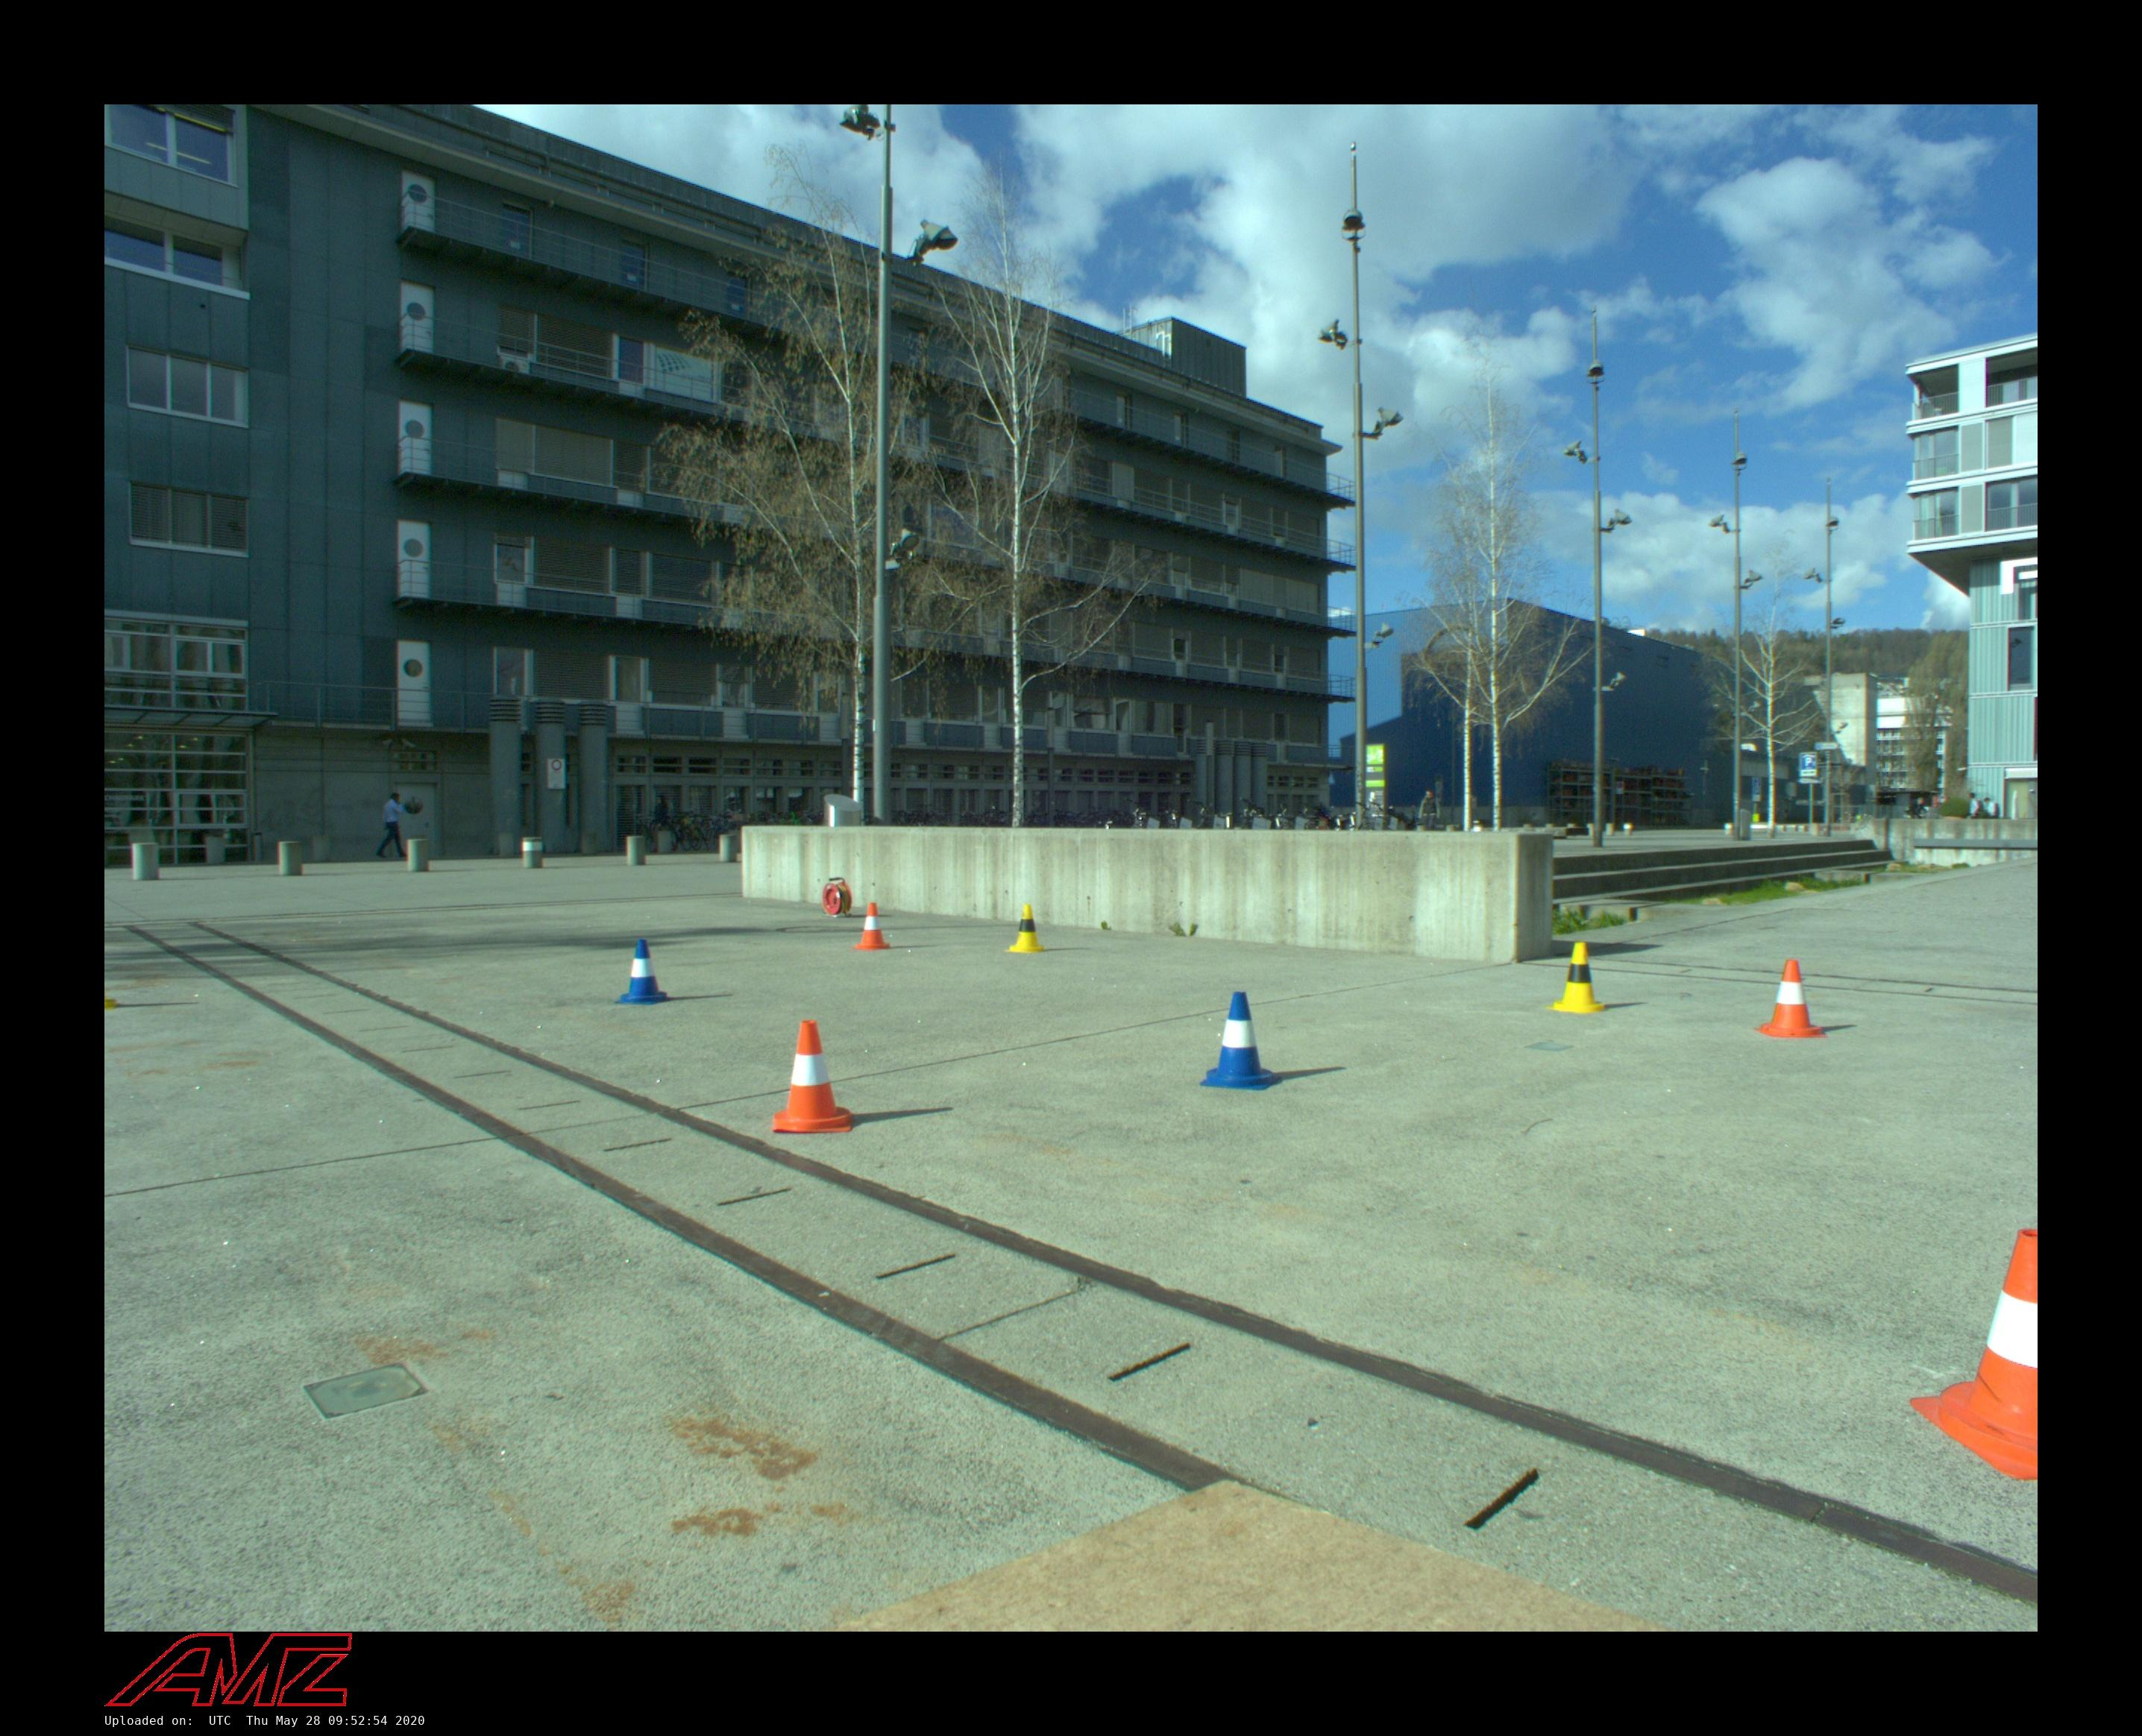blue_cone: (1199, 990, 1283, 1091), (615, 939, 670, 1004)
orange_cone: (1908, 1228, 2037, 1477), (772, 1019, 854, 1132), (1754, 958, 1828, 1038), (852, 902, 893, 949)
yellow_cone: (1545, 942, 1610, 1015), (1005, 903, 1047, 953)
